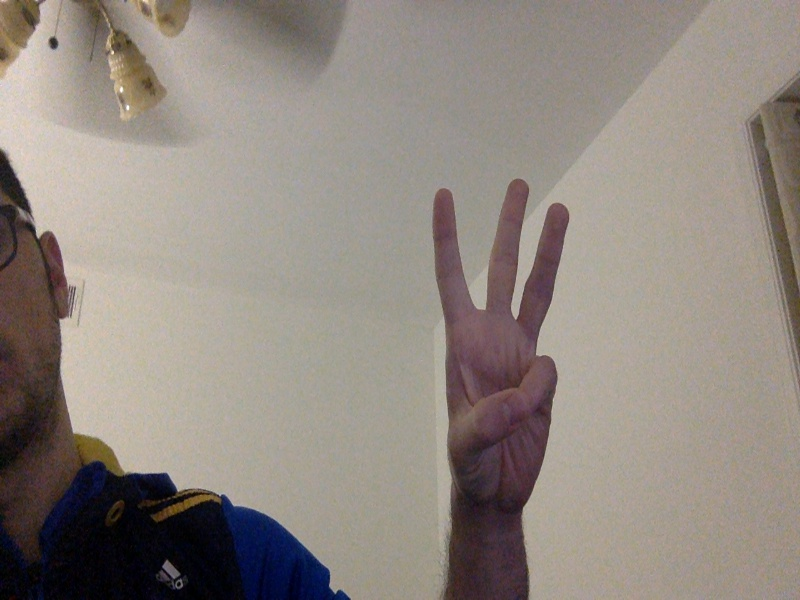3-hand: (432, 179, 569, 500)
